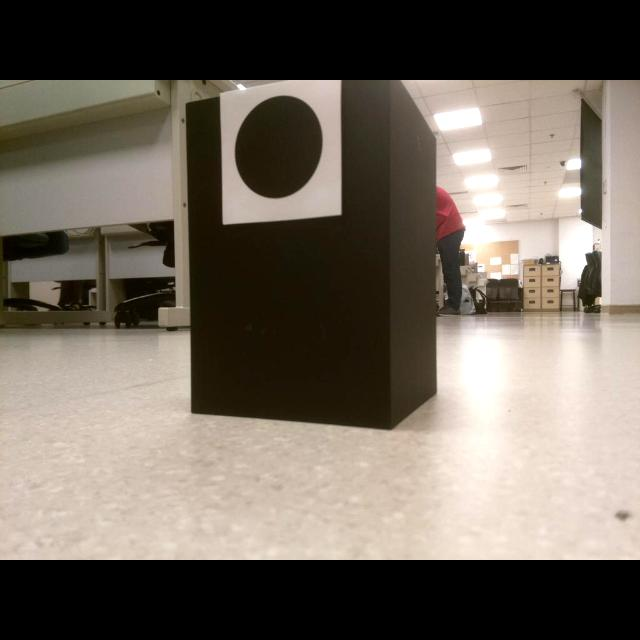CIRCLE: (233, 94, 324, 200)
